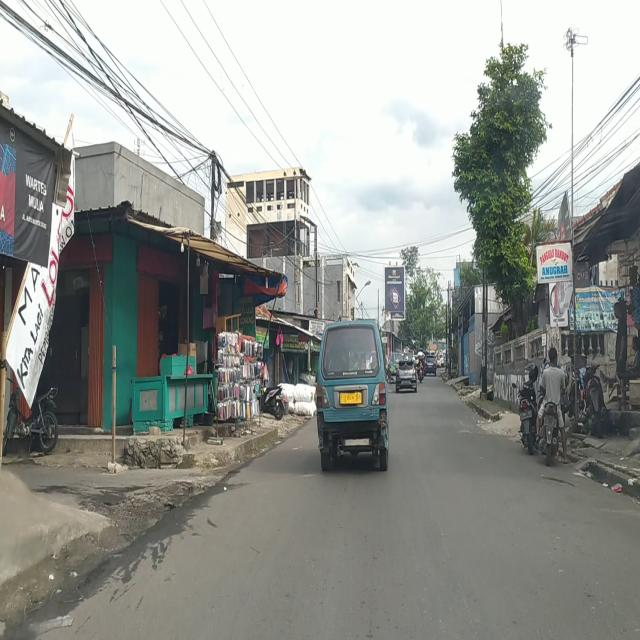Sewer Cover: (537, 473, 577, 489)
